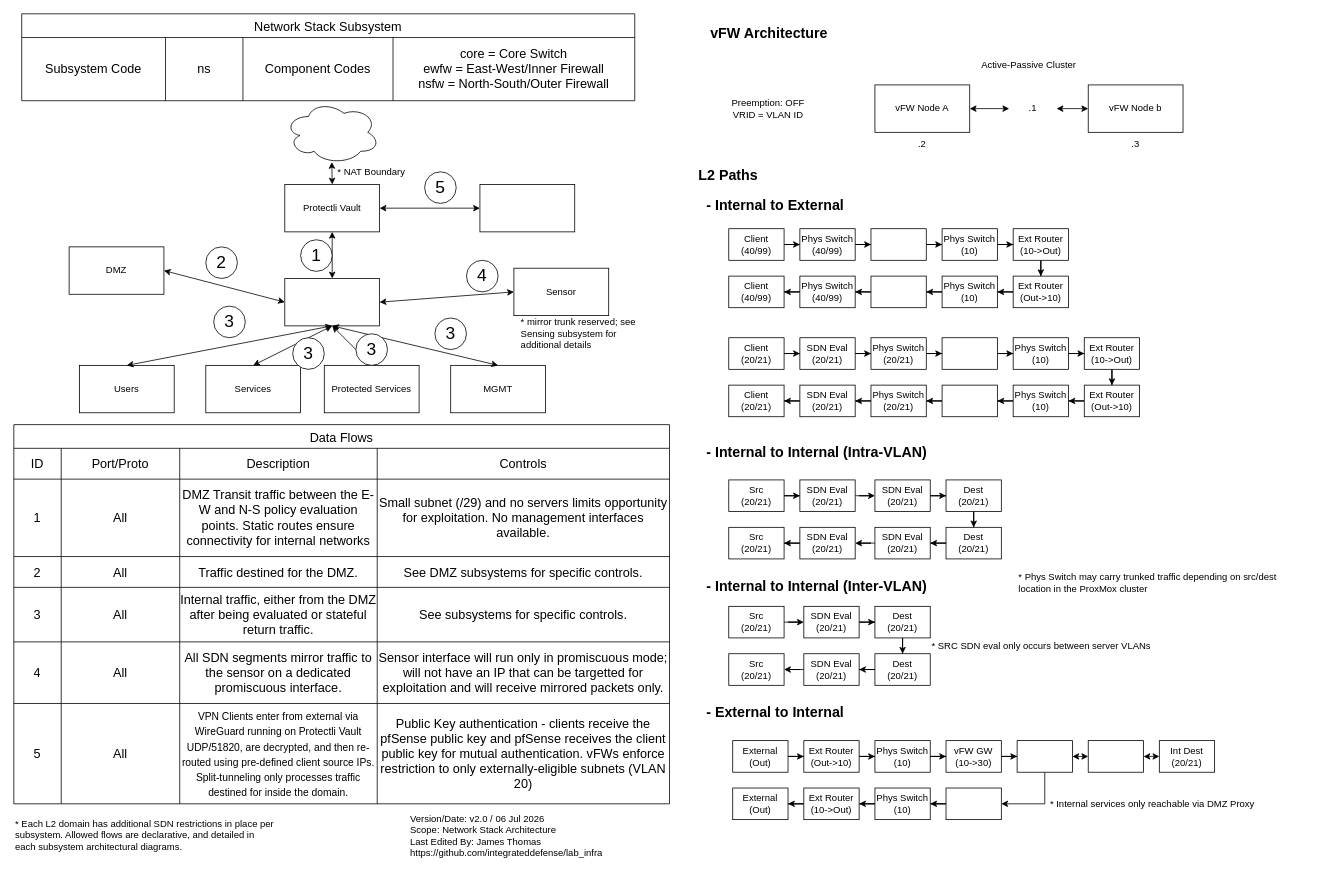
This 1323x889 diagram has some shape labels left out. Each missing label, with the centre of its shape:
DMZ Dest (30): point (1044, 756)
External: point (332, 132)
vFW: point (332, 302)
vFW GW (10->20/21): point (969, 400)
vFW GW (10->40/99): point (898, 291)
vFW GW (20/21->10): point (969, 353)
vFW GW (30->10): point (973, 803)
vFW GW (30->20/21): point (1115, 756)
vFW GW (40/99->10): point (898, 244)
VPN Clients: point (527, 208)
